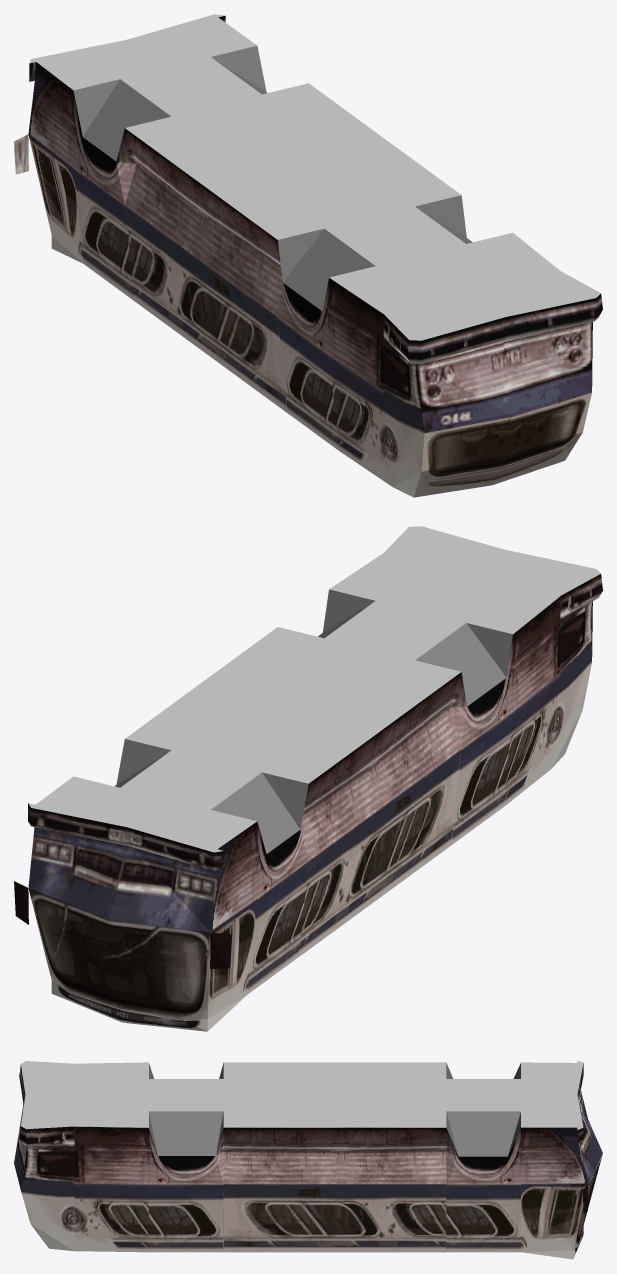
File: RIO_model8_damaged.obj
3 renders of one model, top to bottom at view 1: azimuth 30°, elevation 25°; view 2: azimuth 150°, elevation 25°; view 3: azimuth 270°, elevation 25°, orthographic. The views are drawn at different scales.
Parts seen in each view (by area): view 1: RIO_model8_damaged; view 2: RIO_model8_damaged; view 3: RIO_model8_damaged.
Boxes of the visible parts, <box> form: RIO_model8_damaged: <box>14,14,602,497</box>; RIO_model8_damaged: <box>14,526,602,1031</box>; RIO_model8_damaged: <box>14,1060,602,1259</box>.
Bounding box in the file's own units: 482 × 406 × 1546.
